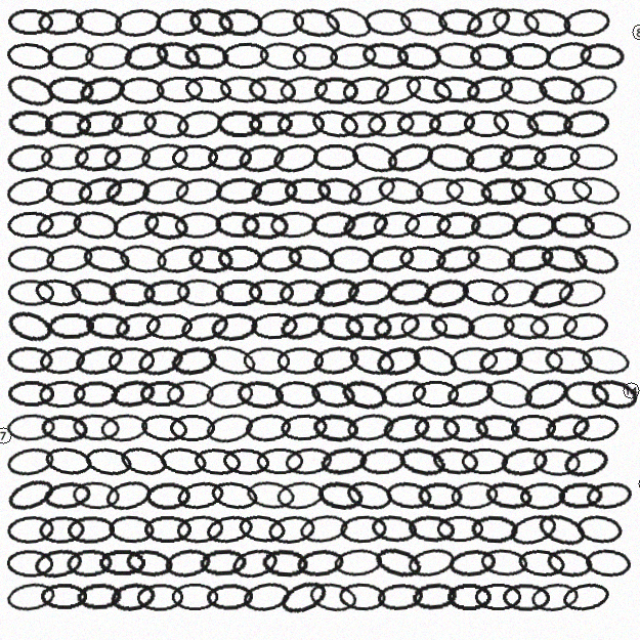chain: (274, 574, 326, 616), (455, 13, 507, 54), (8, 475, 60, 516), (318, 14, 371, 54), (7, 80, 60, 120), (526, 509, 579, 549), (367, 80, 419, 120), (403, 344, 454, 384), (344, 146, 396, 185), (341, 179, 393, 218), (8, 311, 59, 350), (512, 377, 563, 416), (367, 542, 418, 581), (482, 114, 534, 152), (204, 345, 256, 383), (379, 147, 430, 185), (561, 246, 612, 284), (499, 510, 550, 548), (558, 81, 610, 118), (517, 279, 567, 317), (397, 81, 448, 118), (111, 213, 162, 250), (578, 378, 629, 415), (104, 477, 155, 514), (153, 48, 203, 85), (77, 180, 127, 217), (342, 345, 392, 382), (178, 313, 229, 349), (268, 148, 318, 184), (500, 181, 550, 217), (136, 346, 186, 382), (203, 412, 253, 448), (391, 445, 441, 481), (392, 16, 443, 51), (8, 181, 59, 216), (560, 181, 611, 216), (75, 346, 126, 381), (400, 544, 451, 579), (239, 577, 290, 612), (336, 214, 385, 250), (369, 346, 418, 382), (335, 379, 384, 415), (552, 445, 601, 481), (228, 544, 277, 580), (534, 49, 584, 84), (457, 82, 507, 117), (527, 82, 577, 117), (37, 214, 87, 249), (114, 313, 164, 348), (366, 313, 416, 348), (438, 379, 488, 414), (476, 379, 526, 414), (119, 445, 169, 480), (340, 478, 390, 513), (287, 17, 338, 51), (456, 149, 507, 183), (203, 512, 254, 546), (35, 545, 86, 579), (304, 578, 355, 612), (551, 578, 602, 612), (186, 16, 235, 51), (308, 280, 357, 315), (275, 313, 324, 348), (534, 412, 583, 447), (513, 17, 563, 51), (306, 116, 356, 150), (482, 281, 532, 315), (570, 347, 620, 381), (9, 446, 59, 480), (9, 578, 59, 612), (79, 83, 128, 117), (174, 116, 223, 150), (235, 149, 284, 183), (311, 182, 360, 216), (437, 182, 486, 216), (142, 215, 191, 249), (83, 248, 132, 282), (361, 248, 410, 282), (427, 248, 476, 282), (530, 248, 579, 282), (36, 281, 85, 315), (415, 281, 464, 315), (469, 347, 518, 381), (305, 380, 354, 414), (376, 413, 425, 447), (85, 446, 134, 480), (175, 479, 224, 513), (208, 479, 257, 513), (483, 17, 533, 50), (140, 149, 190, 182), (419, 149, 469, 182), (119, 248, 169, 281), (341, 413, 391, 446), (243, 479, 293, 512), (295, 512, 345, 545), (169, 347, 217, 381), (141, 182, 190, 215), (371, 182, 420, 215), (73, 215, 122, 248), (47, 248, 96, 281), (155, 248, 204, 281), (283, 248, 332, 281), (497, 248, 546, 281), (71, 281, 120, 314), (453, 281, 502, 314), (308, 347, 357, 380), (374, 380, 423, 413), (46, 446, 95, 479), (158, 446, 207, 479), (315, 446, 364, 479), (491, 446, 540, 479), (235, 512, 284, 545), (565, 512, 614, 545), (163, 545, 212, 578), (536, 545, 585, 578), (561, 414, 611, 446), (123, 50, 171, 83), (110, 380, 158, 413), (312, 479, 360, 512), (110, 578, 158, 611), (114, 18, 163, 50), (552, 18, 601, 50), (9, 51, 58, 83), (491, 84, 540, 116), (9, 150, 58, 182), (174, 183, 223, 215), (247, 183, 296, 215), (548, 282, 597, 314), (208, 315, 257, 347), (45, 480, 94, 512), (379, 480, 428, 512), (476, 480, 525, 512), (264, 513, 313, 545), (125, 546, 174, 578), (292, 546, 341, 578), (508, 546, 557, 578), (521, 579, 570, 611), (337, 84, 385, 116), (77, 117, 125, 149), (142, 117, 190, 149), (105, 183, 153, 215), (204, 381, 252, 413), (234, 381, 282, 413), (553, 381, 601, 413), (140, 414, 188, 446), (435, 414, 483, 446), (575, 480, 623, 512), (441, 546, 489, 578), (76, 18, 125, 49), (427, 51, 476, 82), (217, 84, 266, 115), (245, 84, 294, 115), (276, 84, 325, 115), (462, 216, 511, 247), (459, 249, 508, 280), (520, 315, 569, 346), (101, 414, 150, 445), (281, 447, 330, 478), (443, 480, 492, 511), (175, 513, 224, 544), (329, 546, 378, 577), (472, 546, 521, 577), (254, 249, 301, 281), (256, 51, 304, 82), (356, 51, 404, 82), (183, 84, 231, 115), (111, 117, 159, 148), (421, 117, 469, 148), (552, 117, 600, 148), (75, 150, 123, 181), (213, 183, 261, 214), (367, 216, 415, 247), (573, 216, 621, 247), (275, 282, 323, 313), (312, 315, 360, 346), (41, 348, 89, 379), (425, 447, 473, 478), (273, 480, 321, 511), (365, 513, 413, 544), (401, 513, 449, 544), (574, 546, 622, 577), (104, 151, 153, 181), (430, 18, 477, 49), (390, 51, 437, 82), (342, 282, 389, 313), (381, 282, 428, 313), (86, 315, 133, 346), (423, 315, 470, 346), (552, 315, 599, 346), (242, 414, 289, 445), (308, 414, 355, 445), (405, 579, 452, 610), (254, 19, 302, 49), (359, 19, 407, 49), (325, 52, 373, 82), (362, 118, 410, 148), (409, 184, 457, 214), (398, 217, 446, 247), (460, 316, 508, 346), (494, 316, 542, 346), (192, 448, 240, 478), (220, 448, 268, 478), (371, 580, 419, 610), (461, 52, 508, 82), (491, 151, 538, 181), (524, 151, 571, 181), (143, 283, 190, 313), (271, 382, 318, 412), (43, 415, 90, 445), (524, 448, 571, 478), (10, 514, 57, 544), (49, 52, 97, 81), (86, 52, 134, 81), (43, 151, 91, 180), (267, 217, 315, 246), (248, 316, 296, 345), (535, 349, 583, 378), (41, 382, 89, 411), (10, 415, 58, 444), (74, 415, 122, 444), (277, 415, 325, 444), (334, 580, 382, 609), (183, 52, 229, 82), (503, 217, 549, 247), (187, 250, 233, 280), (467, 415, 513, 445), (40, 19, 87, 48), (220, 52, 267, 81), (49, 85, 96, 114), (426, 85, 473, 114), (517, 118, 564, 147), (10, 217, 57, 246), (109, 283, 156, 312), (176, 283, 223, 312), (340, 316, 387, 345), (10, 349, 57, 378), (507, 349, 554, 378), (166, 382, 213, 411), (354, 448, 401, 477), (74, 481, 121, 510), (335, 514, 382, 543), (463, 514, 510, 543), (68, 547, 115, 576), (198, 547, 245, 576), (155, 19, 201, 48), (216, 19, 262, 48), (11, 118, 57, 147), (472, 184, 518, 213), (213, 217, 259, 246), (307, 217, 353, 246), (429, 217, 475, 246), (109, 514, 155, 543), (259, 547, 305, 576), (78, 580, 124, 609), (119, 86, 166, 114), (274, 119, 321, 147), (171, 152, 218, 180), (239, 218, 286, 246), (393, 251, 440, 279), (274, 350, 321, 378), (443, 350, 490, 378), (69, 515, 116, 543), (10, 548, 57, 576), (137, 581, 184, 609), (494, 581, 541, 609), (569, 53, 615, 81), (47, 119, 93, 147), (336, 119, 382, 147), (48, 185, 94, 213), (174, 218, 220, 246), (11, 251, 57, 279), (11, 284, 57, 312), (146, 317, 192, 345), (395, 317, 441, 345), (109, 350, 155, 378), (241, 350, 287, 378), (408, 416, 454, 444), (411, 482, 457, 510), (511, 482, 557, 510), (548, 482, 594, 510), (41, 515, 87, 543), (205, 581, 251, 609), (560, 152, 607, 179), (535, 185, 582, 212), (406, 383, 453, 410), (254, 449, 301, 476), (454, 449, 501, 476), (144, 515, 191, 542), (171, 581, 218, 608), (467, 581, 514, 608), (289, 53, 334, 81), (310, 86, 355, 114), (246, 119, 291, 147), (391, 119, 436, 147), (206, 152, 251, 180), (541, 218, 586, 246), (324, 251, 369, 279), (75, 383, 120, 411), (146, 482, 191, 510), (11, 20, 57, 47), (497, 53, 543, 80), (156, 86, 202, 113), (456, 119, 502, 146), (309, 152, 355, 179), (281, 185, 327, 212), (214, 284, 260, 311), (246, 284, 292, 311), (50, 317, 96, 344), (11, 383, 57, 410), (169, 416, 215, 443), (502, 416, 548, 443), (430, 515, 476, 542), (100, 548, 146, 575), (43, 581, 89, 608), (215, 119, 260, 146), (216, 251, 261, 278), (140, 383, 185, 410), (440, 581, 485, 608)
noise: (610, 383, 630, 403), (619, 33, 639, 53), (0, 427, 17, 447), (625, 474, 640, 494)
